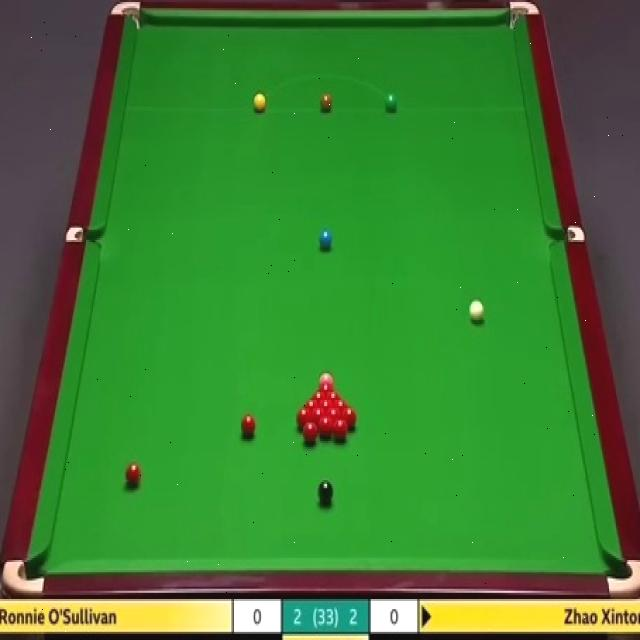black-ball: (316, 479, 332, 504)
blue-ball: (319, 231, 333, 248)
brown-ball: (320, 93, 332, 112)
green-ball: (384, 91, 398, 113)
pink-ball: (319, 373, 334, 388)
red-ball: (125, 460, 141, 489), (300, 421, 318, 444), (240, 414, 256, 437), (339, 407, 355, 428), (319, 415, 333, 438), (296, 408, 310, 430), (327, 408, 341, 429), (334, 420, 347, 441), (306, 398, 318, 412), (321, 400, 331, 413), (320, 384, 330, 396)
white-ball: (467, 300, 486, 324)
yellow-ball: (253, 92, 266, 113)
